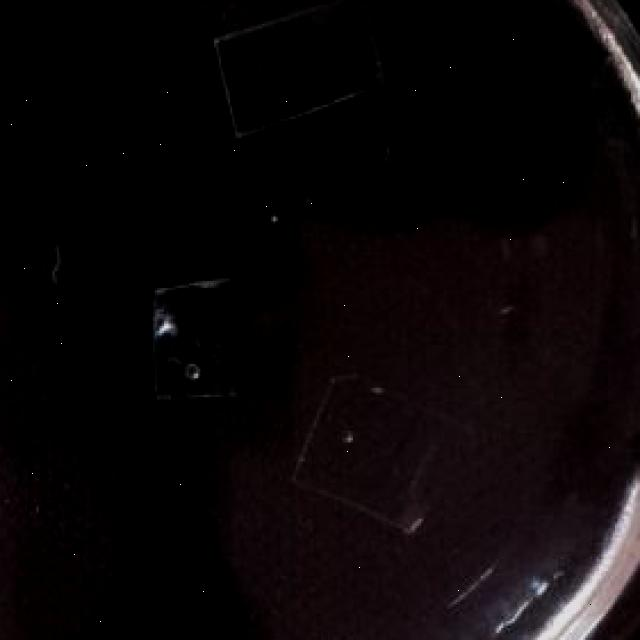Microplastic: (200, 0, 417, 167), (292, 357, 460, 554), (155, 266, 241, 414)
